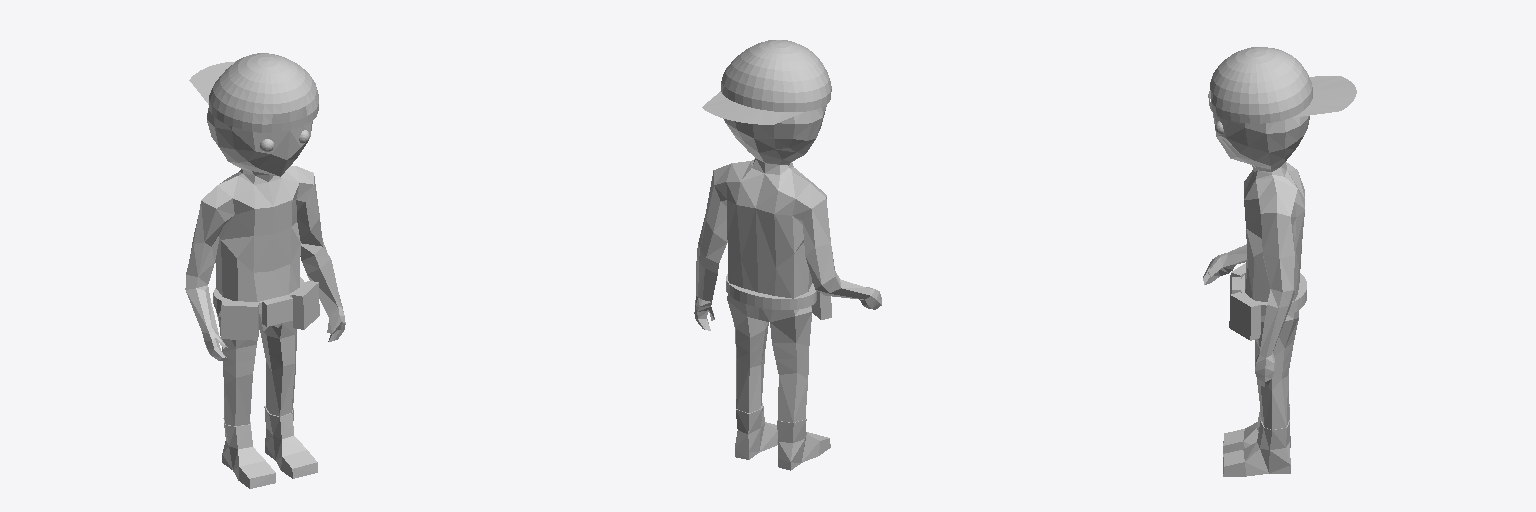
The model's file is Main_Character_Paint_2.obj.
The picture shows the model from 3 angles: view 1: azimuth 30°, elevation 25°; view 2: azimuth 150°, elevation 25°; view 3: azimuth 270°, elevation 25°; orthographic projection.
Visible parts, largest first — view 1: Main_Character_Test.003_Main_Character_Test.004; view 2: Main_Character_Test.003_Main_Character_Test.004; view 3: Main_Character_Test.003_Main_Character_Test.004.
Part boxes in pixels (bbox=[...]): Main_Character_Test.003_Main_Character_Test.004: bbox=[185, 53, 345, 488]; Main_Character_Test.003_Main_Character_Test.004: bbox=[694, 40, 881, 470]; Main_Character_Test.003_Main_Character_Test.004: bbox=[1203, 47, 1356, 476].
Size of the model in its own units: 1.63 by 3.97 by 1.36.